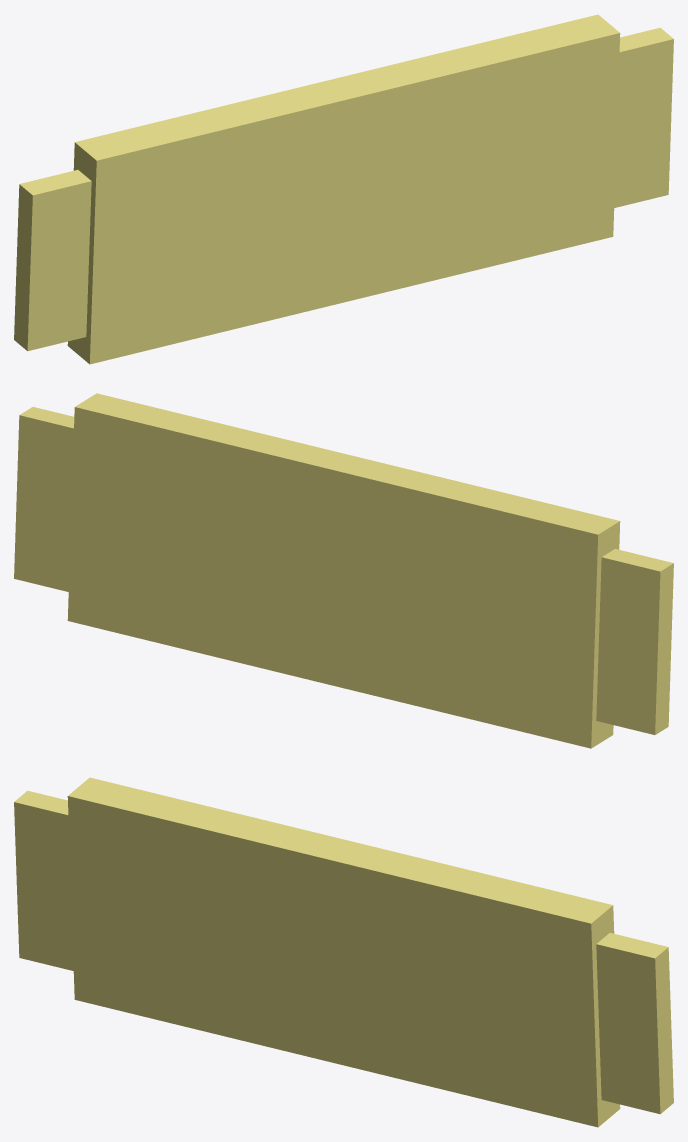
The model's file is original-11.obj.
3 views of the same model, one above another, from view 1: azimuth 30°, elevation 25°; view 2: azimuth 150°, elevation 25°; view 3: azimuth 330°, elevation 25° (orthographic).
Visible parts, largest first — view 1: Back_apron1/Back_apron/mesh29/mesh29-geometry#mesh29-geometry; view 2: Back_apron1/Back_apron/mesh29/mesh29-geometry#mesh29-geometry; view 3: Back_apron1/Back_apron/mesh29/mesh29-geometry#mesh29-geometry.
Boxes of the visible parts, x1,y1,x2,y2 form: Back_apron1/Back_apron/mesh29/mesh29-geometry#mesh29-geometry: (14,14,673,364); Back_apron1/Back_apron/mesh29/mesh29-geometry#mesh29-geometry: (14,393,673,748); Back_apron1/Back_apron/mesh29/mesh29-geometry#mesh29-geometry: (14,777,673,1127).
Size of the model in its own units: 0.5972 by 0.1881 by 0.0468.
